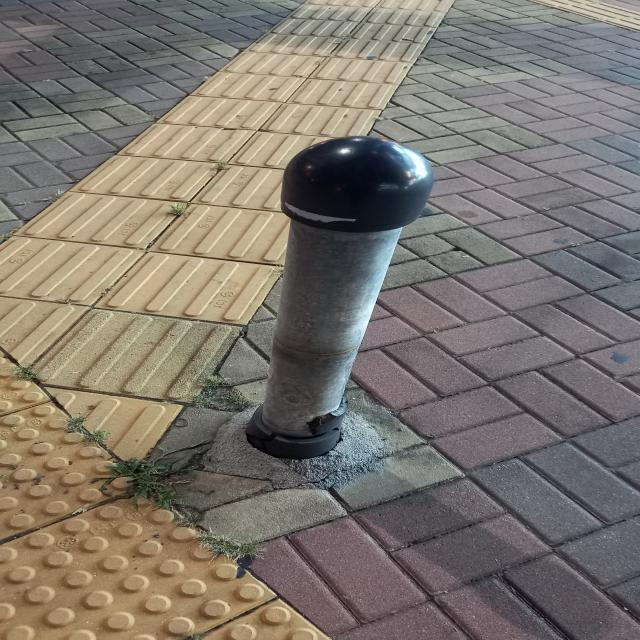pole: (244, 136, 433, 460)
